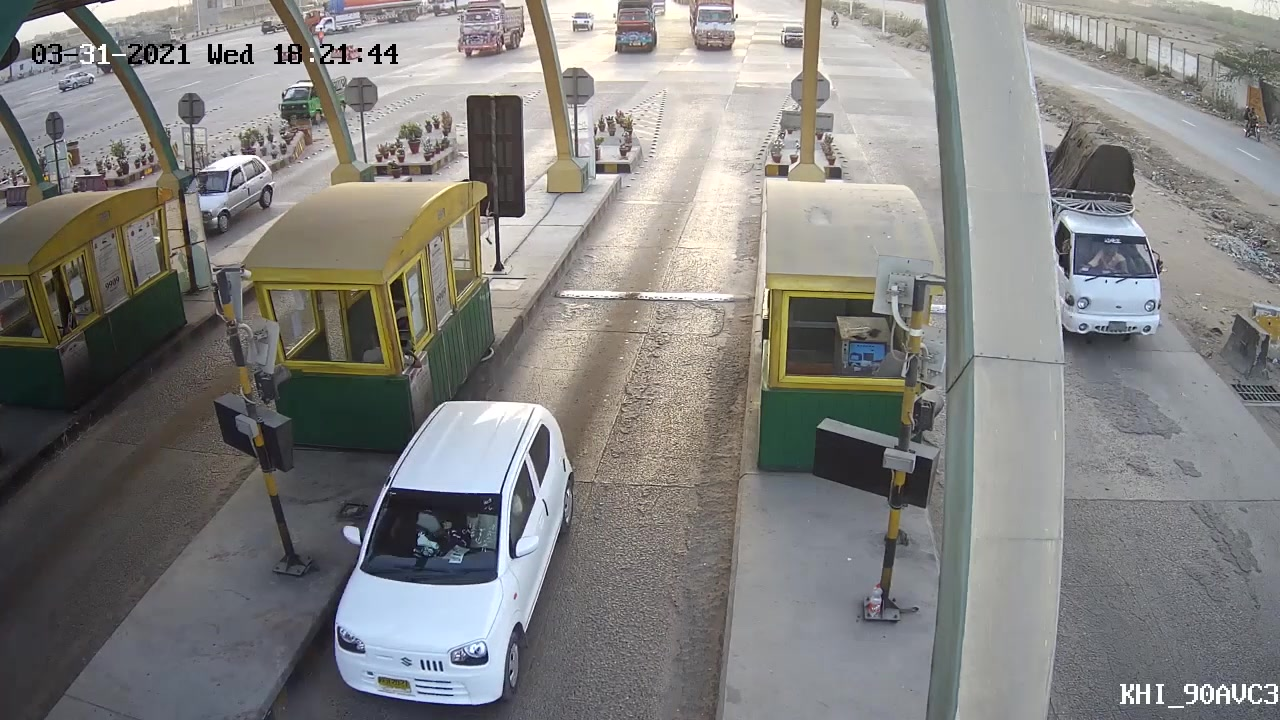F1: (327, 395, 581, 712)
